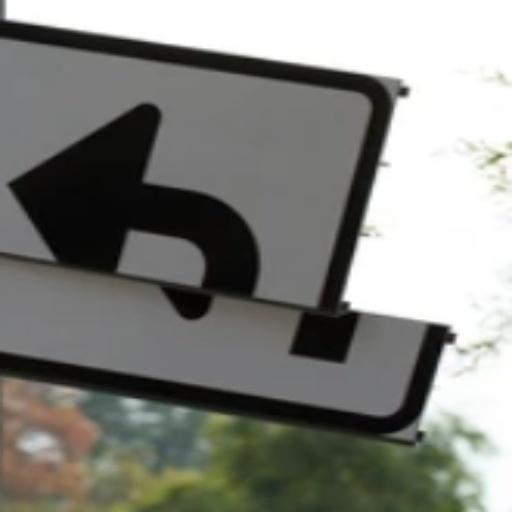Turn left: (9, 78, 257, 361)
